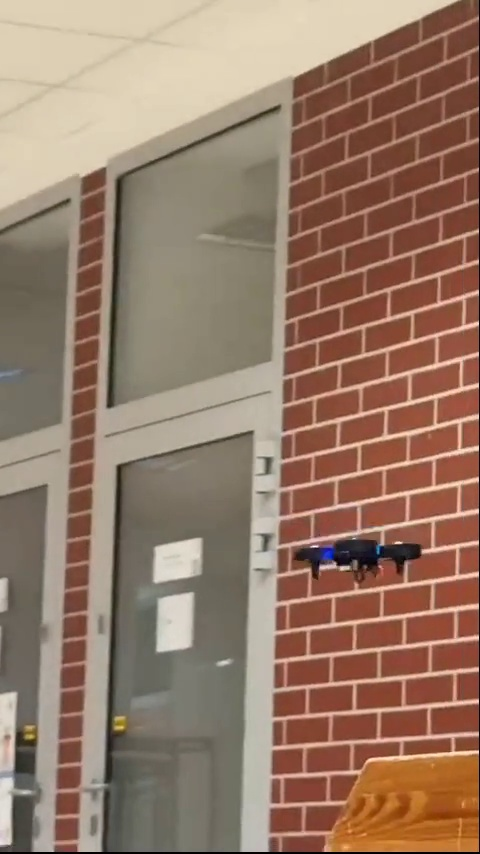drone: (295, 535, 415, 578)
